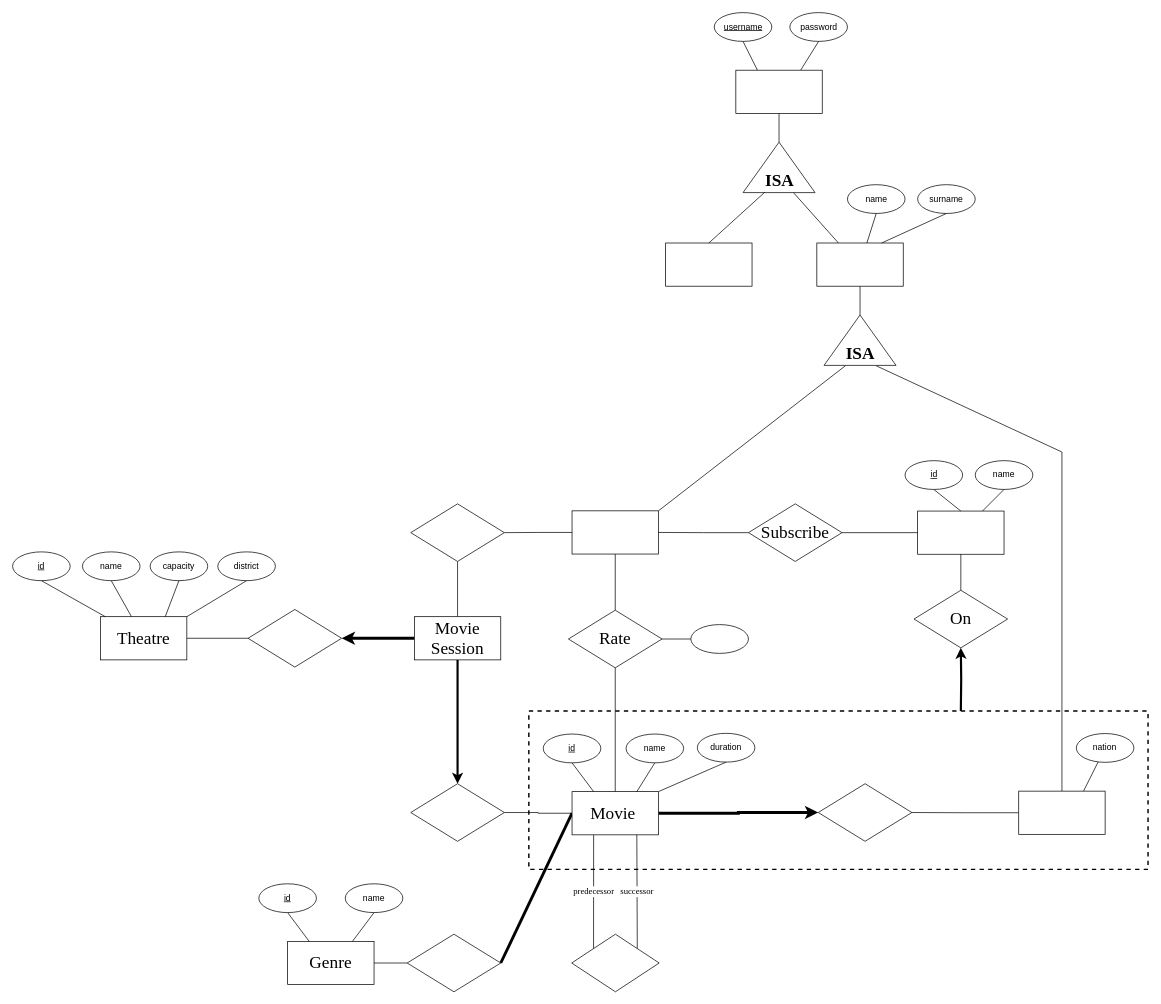
The diagram is 1161 pixels wide and 1004 high, and some of its shapes have lost their labels. Here are the shapes that lost their labels. From the top down, the centre of each, then its label:
At (778,91): "Base User".
At (708,264): "Database Manager".
At (859,264): "User".
At (457,532): "Ticket".
At (614,532): "Audience".
At (960,532): "Rating Platform".
At (294,638): "Has2".
At (719,638): "rating".
At (457,812): "Has3".
At (865,812): "Directed".
At (1061,812): "Director".
At (453,962): "Has1".
At (615,962): "Has4".
